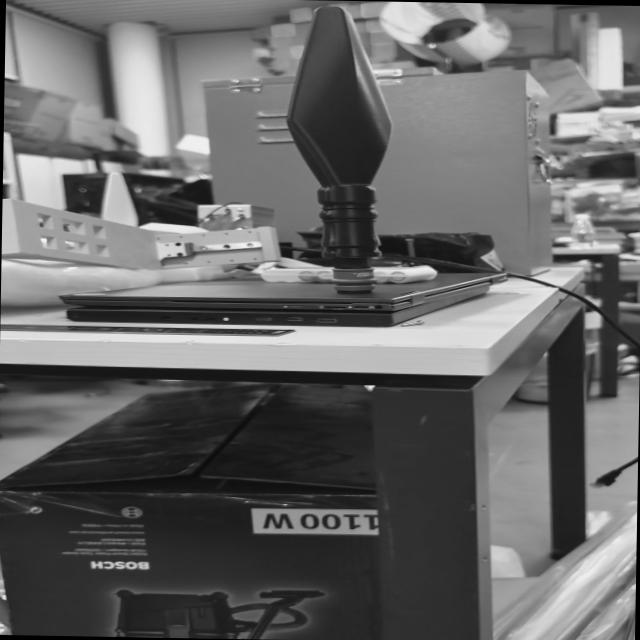base: (324, 265, 381, 300)
